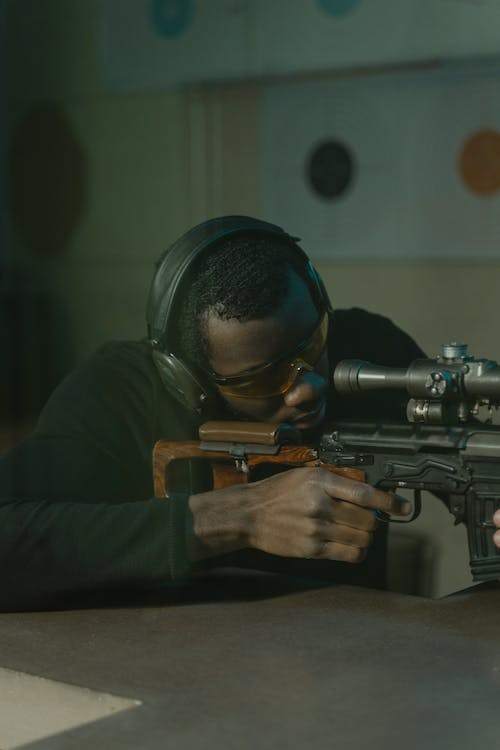gun: (146, 337, 500, 584)
